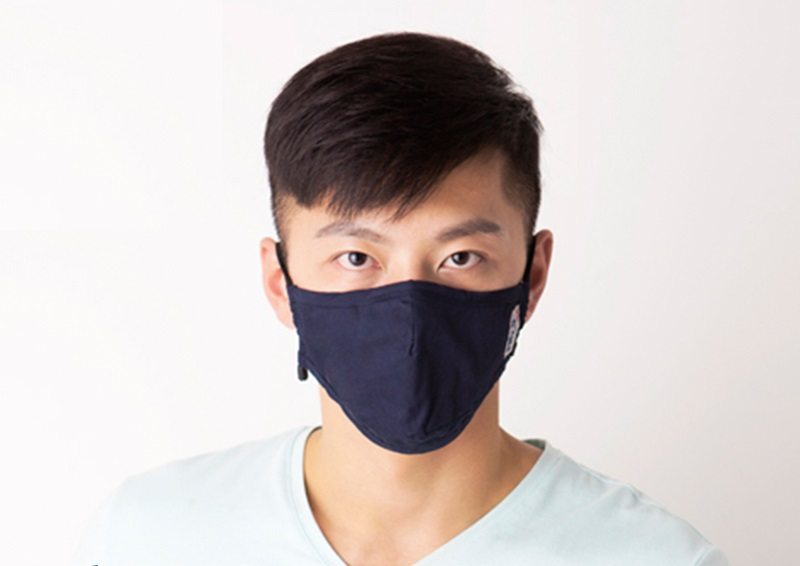face_mask: (278, 144, 530, 422)
